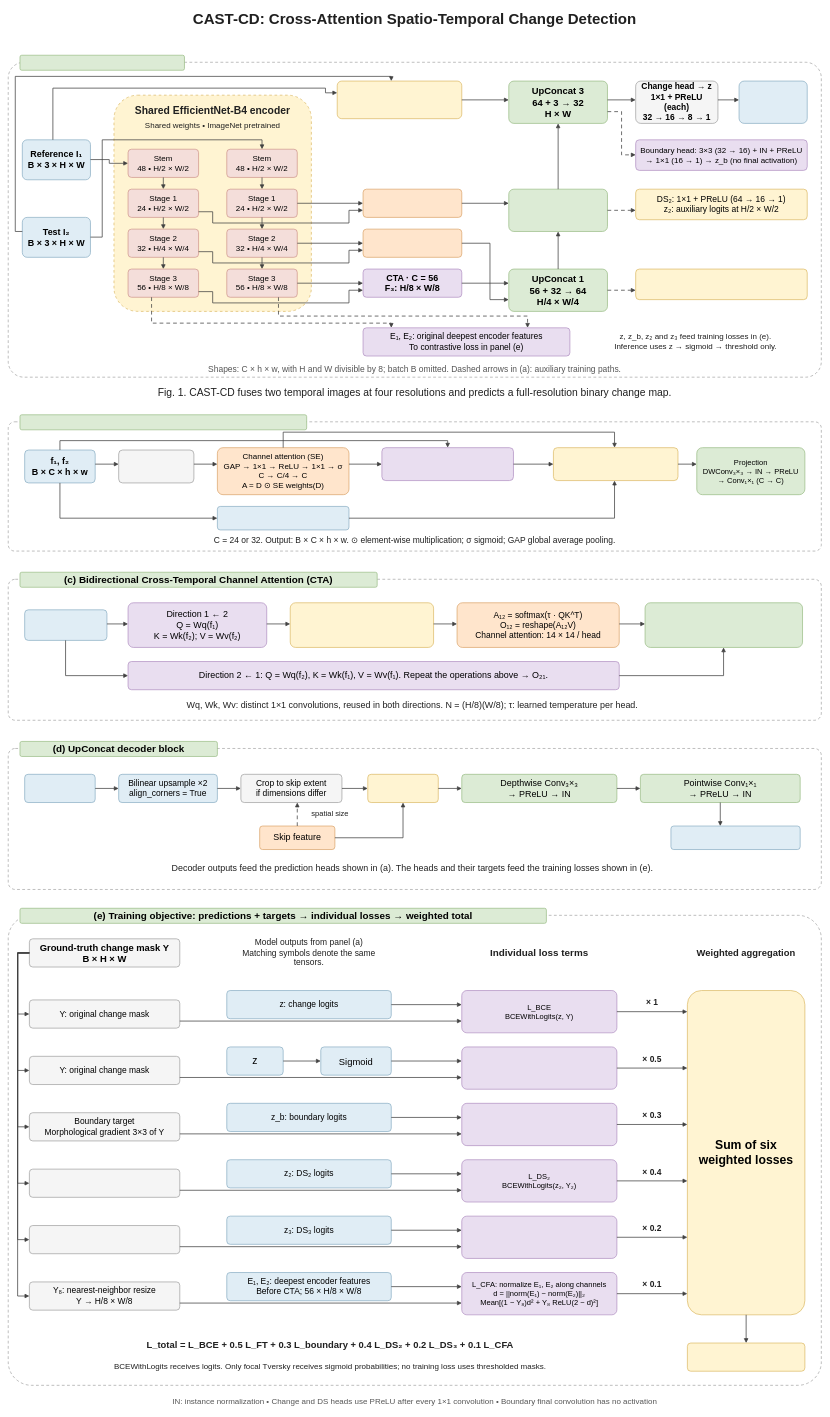
Image size: 830x1417. Some labels were removed from this diagram. The centre of each missing label's shape, as x and y in pixels:
(a) Overall architecture: (x=102, y=62)
(b) Gated Difference-Attention Fusion (GDAF): (x=163, y=422)
4 heads; 14 channels / head Q, K, V: B × 4 × 14 × N L2-normalize Q and K over N: (x=362, y=625)
Concat [I₁, I₂] → Conv 3×3 6 → 3 + PReLU + IN F₀: B × 3 × H × W: (x=399, y=100)
Concat [O₁₂, O₂₁] Conv₁×₁ (112 → 56) → IN → PReLU F₃: B × 56 × H/8 × W/8: (x=724, y=625)
Concatenate channels: (x=402, y=788)
Decoder output: 64, 64, 32 for UpConcat 1, 2, 3: (x=735, y=837)
Difference D = |f₁ − f₂|: (x=156, y=466)
DS₃: 1×1 + PReLU (64 → 16 → 1) z₃: auxiliary logits at H/4 × W/4: (x=721, y=284)
Gate: g = σ(Conv₁×₁([f₁,f₂,A])) 3C → C: (x=447, y=464)
Gated blend U = g ⊙ A + (1 − g) ⊙ M: (x=615, y=464)
GDAF · C = 24 F₁: H/2 × W/2: (x=412, y=203)
GDAF · C = 32 F₂: H/4 × W/4: (x=412, y=243)
Input x Previous scale: (x=59, y=788)
L_boundary BCEWithLogits(z_b, boundary target): (x=539, y=1124)
L_DS₃ BCEWithLogits(z₃, Y₄): (x=539, y=1237)
L_FT: focal Tversky α = β = 0.5; γ = 0.75; smooth = 1: (x=539, y=1067)
L_total Scalar training loss: (x=746, y=1356)
Post-processing Sigmoid > 0.5 Change mask: (x=773, y=102)
Temporal mean: M = (f₁ + f₂) / 2: (x=283, y=518)
Temporal pair f₁, f₂; C = 56: (x=65, y=624)
UpConcat 2 64 + 24 → 64 H/2 × W/2: (x=558, y=210)
Y₂: nearest-neighbor resize Y → H/2 × W/2: (x=104, y=1183)
Y₄: nearest-neighbor resize Y → H/4 × W/4: (x=104, y=1239)
